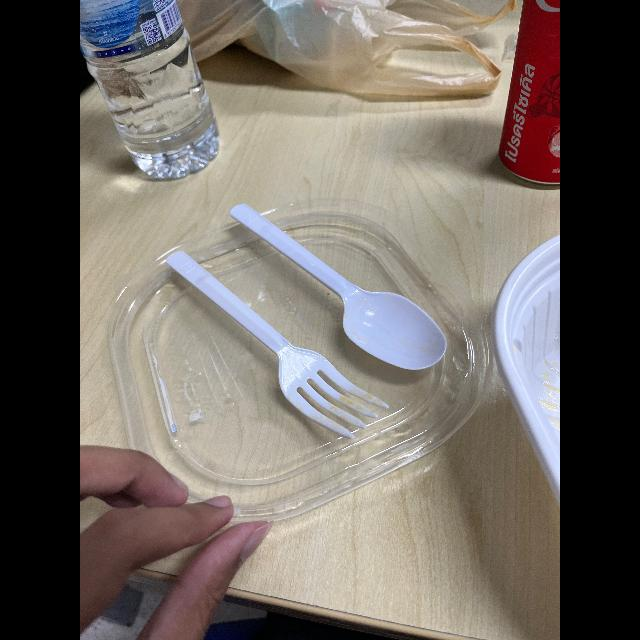plastic_cultery: (161, 246, 399, 454), (210, 196, 456, 378)
